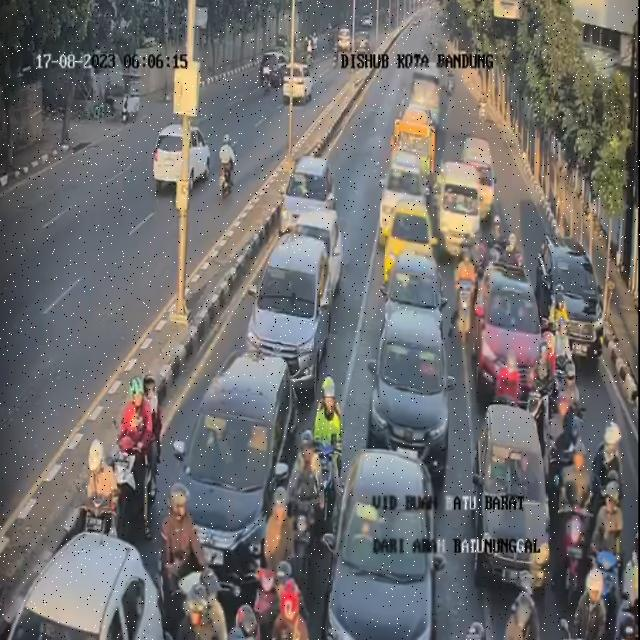cars: (175, 352, 301, 592), (333, 449, 454, 640), (6, 535, 161, 640), (366, 303, 448, 487), (248, 234, 334, 398), (472, 405, 548, 589), (534, 237, 606, 369), (478, 269, 546, 400), (290, 156, 343, 289), (381, 244, 448, 340), (385, 196, 440, 292), (437, 160, 482, 258), (284, 157, 334, 234), (382, 152, 426, 236), (464, 140, 494, 220)
motorcycle: (164, 480, 208, 634), (118, 370, 163, 510), (590, 479, 626, 639), (289, 440, 323, 579), (559, 448, 590, 591), (260, 558, 314, 638), (176, 569, 236, 640), (314, 383, 346, 509), (594, 424, 626, 513), (451, 247, 477, 344), (498, 587, 543, 640), (534, 336, 561, 414), (552, 391, 579, 461), (548, 286, 571, 368), (484, 198, 504, 276), (504, 233, 525, 276)
truck: (389, 110, 432, 178), (410, 64, 446, 130)
